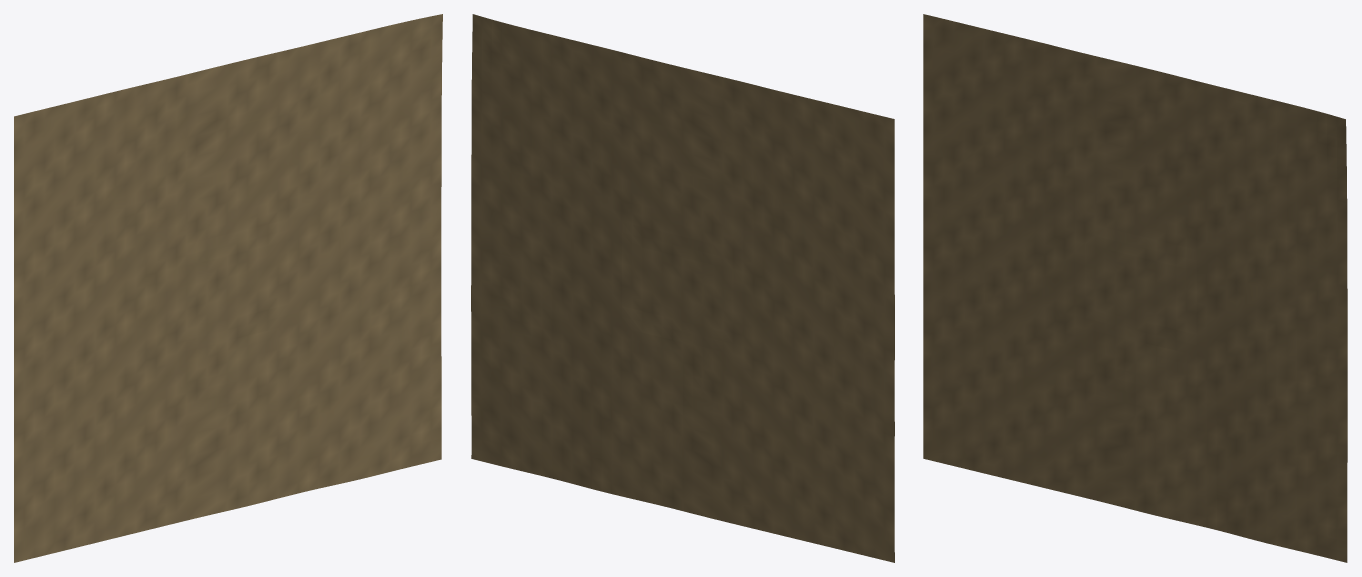
The model's file is terrain.glb.
3 views of the same model, side by side, from view 1: azimuth 30°, elevation 25°; view 2: azimuth 150°, elevation 25°; view 3: azimuth 330°, elevation 25° (orthographic).
Parts seen in each view (by area): view 1: terrain; view 2: terrain; view 3: terrain.
Boxes of the visible parts, bbox=[...] form: terrain: bbox=[14, 14, 442, 562]; terrain: bbox=[471, 14, 894, 562]; terrain: bbox=[923, 14, 1347, 562].
Bounding box in the file's own units: 840 × 840 × 8.65.
